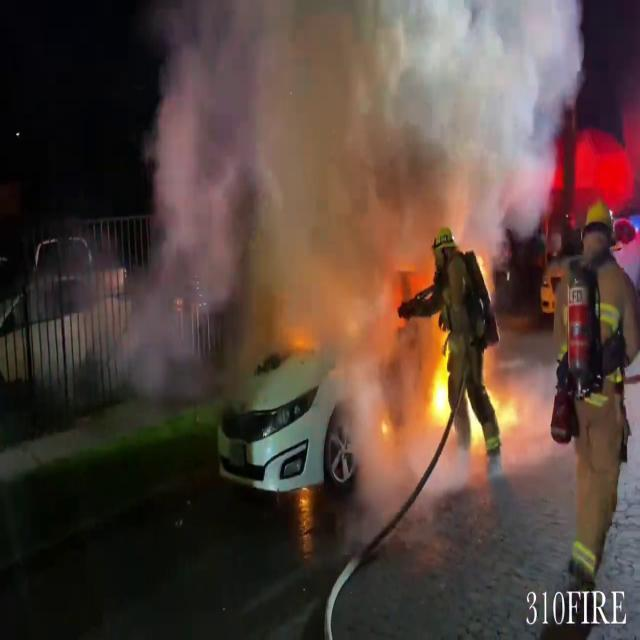Fire: (428, 322, 454, 430)
Smoke: (113, 0, 589, 368)
